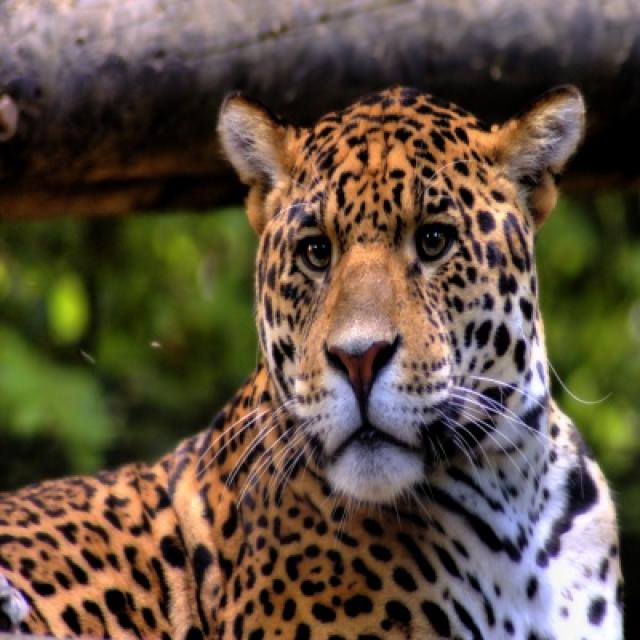Jaguar: (0, 83, 627, 638)
